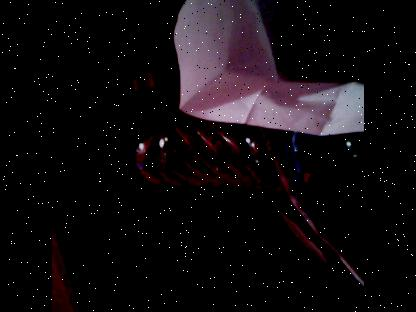Plastic Bottle: (101, 111, 364, 193)
